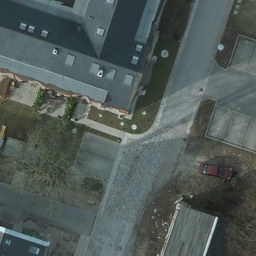car: (200, 160, 237, 185)
